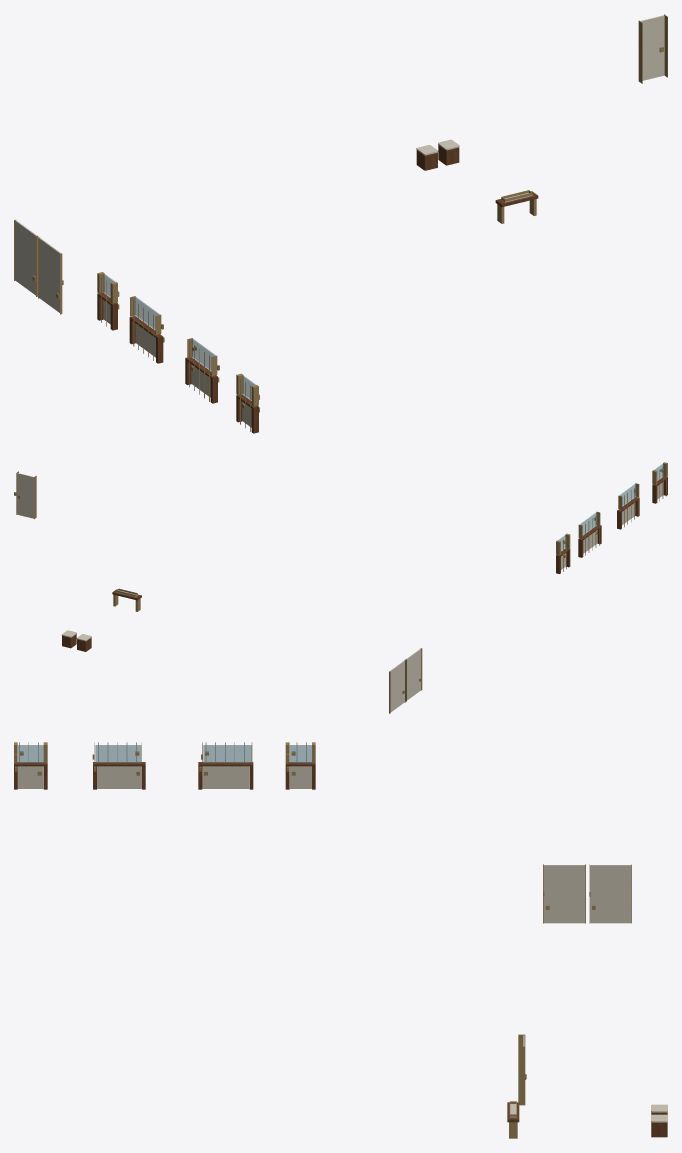
Rendered from D04_PHYSICAL_FITTINGS_r008.glb.
3 renders of one model, top to bottom at view 1: azimuth 30°, elevation 25°; view 2: azimuth 150°, elevation 25°; view 3: azimuth 270°, elevation 25°, orthographic. The views are drawn at different scales.
Parts seen in each view (by area): view 1: D04PC_CourtSouth_Leaf, D04PC_StaffUsed_Leaf, D04PC_StaffClean_Leaf; view 2: D04PC_CourtSouth_Leaf, D04PC_StaffUsed_Leaf, D04PC_StaffClean_Leaf; view 3: D04PC_StaffClean_Leaf, D04PC_StaffUsed_Leaf, D04PC_Hatch_952_1_Leaf, D04PC_Hatch_928_0_Leaf, D04PC_ToolPane_952_1_Leaf, D04PC_ToolPane_928_0_Leaf, D04PC_Hatch_928_1_Leaf.
Part boxes in pixels (<box>): D04PC_CourtSouth_Leaf: <box>640,15,664,80</box>; D04PC_StaffUsed_Leaf: <box>15,220,37,295</box>; D04PC_StaffClean_Leaf: <box>39,238,60,312</box>; D04PC_CourtSouth_Leaf: <box>17,473,33,518</box>; D04PC_StaffUsed_Leaf: <box>389,660,404,712</box>; D04PC_StaffClean_Leaf: <box>406,648,421,700</box>; D04PC_StaffClean_Leaf: <box>543,865,585,923</box>; D04PC_StaffUsed_Leaf: <box>590,865,631,923</box>; D04PC_Hatch_952_1_Leaf: <box>202,766,249,788</box>; D04PC_Hatch_928_0_Leaf: <box>97,766,141,788</box>; D04PC_ToolPane_952_1_Leaf: <box>203,745,251,762</box>; D04PC_ToolPane_928_0_Leaf: <box>95,745,141,762</box>; D04PC_Hatch_928_1_Leaf: <box>17,766,43,788</box>.
Size of the model in its own units: 31.6 by 7.2 by 27.31.
4 materials, 3 textured.
